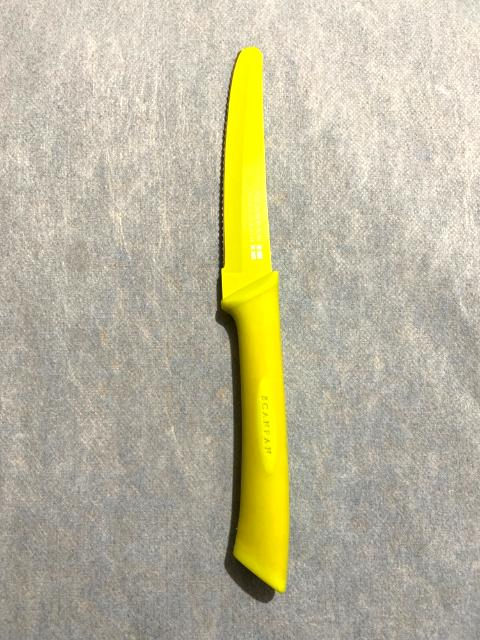Knife: (222, 48, 289, 591)
